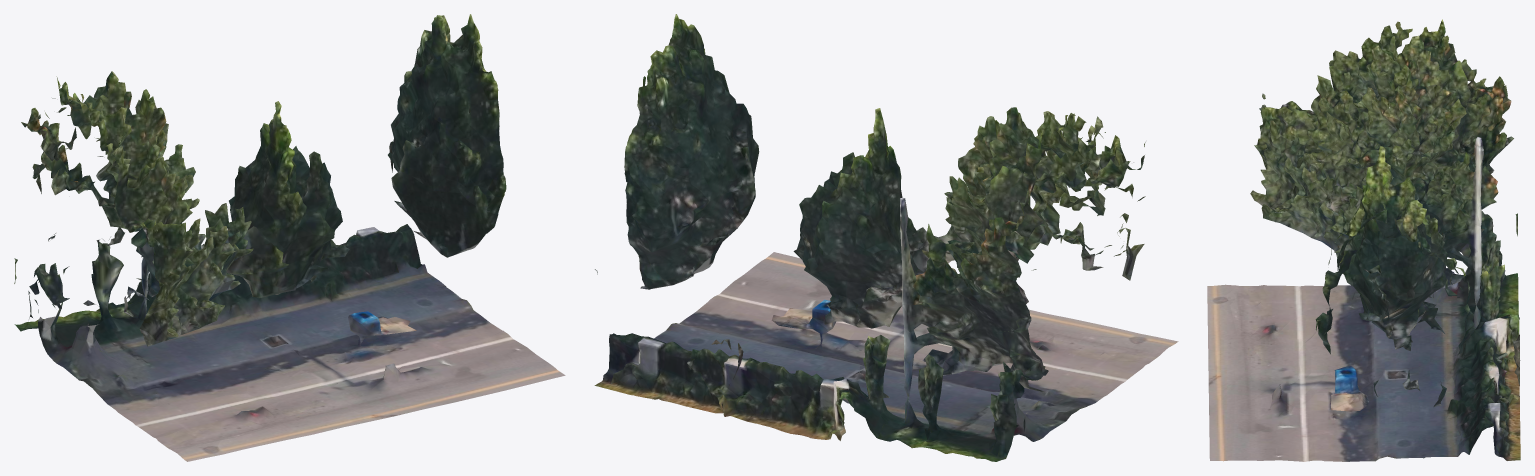
Rendered from Tile_+006_+007_L21_000210t7.glb.
The picture shows the model from 3 angles, left to right: view 1: azimuth 30°, elevation 25°; view 2: azimuth 150°, elevation 25°; view 3: azimuth 270°, elevation 25°; orthographic projection. The views are drawn at different scales.
Parts seen in each view (by area): view 1: rtc; view 2: rtc; view 3: rtc.
Boxes of the visible parts, box(x1,y1,x2,y2) form: rtc: box(14, 14, 565, 461); rtc: box(594, 14, 1178, 461); rtc: box(1207, 19, 1520, 461).
Size of the model in its own units: 17.72 by 13.65 by 13.88.
1 material, 1 textured.
